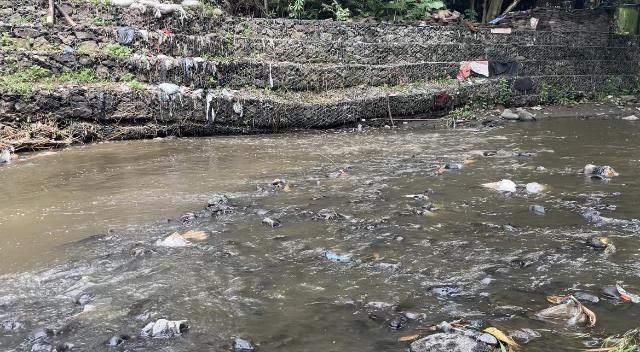Sampah Anorganik: (541, 298, 599, 327), (484, 178, 553, 197), (144, 231, 210, 246), (579, 160, 618, 183), (613, 283, 640, 304), (324, 248, 349, 264), (460, 159, 474, 164)
Sampah Organik: (443, 319, 520, 352), (583, 332, 640, 352), (593, 235, 611, 246), (437, 164, 446, 174), (337, 169, 348, 177), (282, 185, 290, 192)
